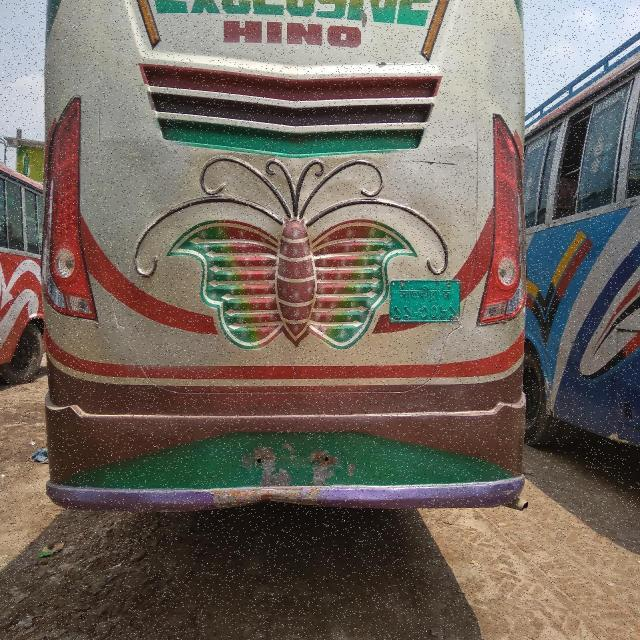numberplate: (387, 278, 461, 323)
